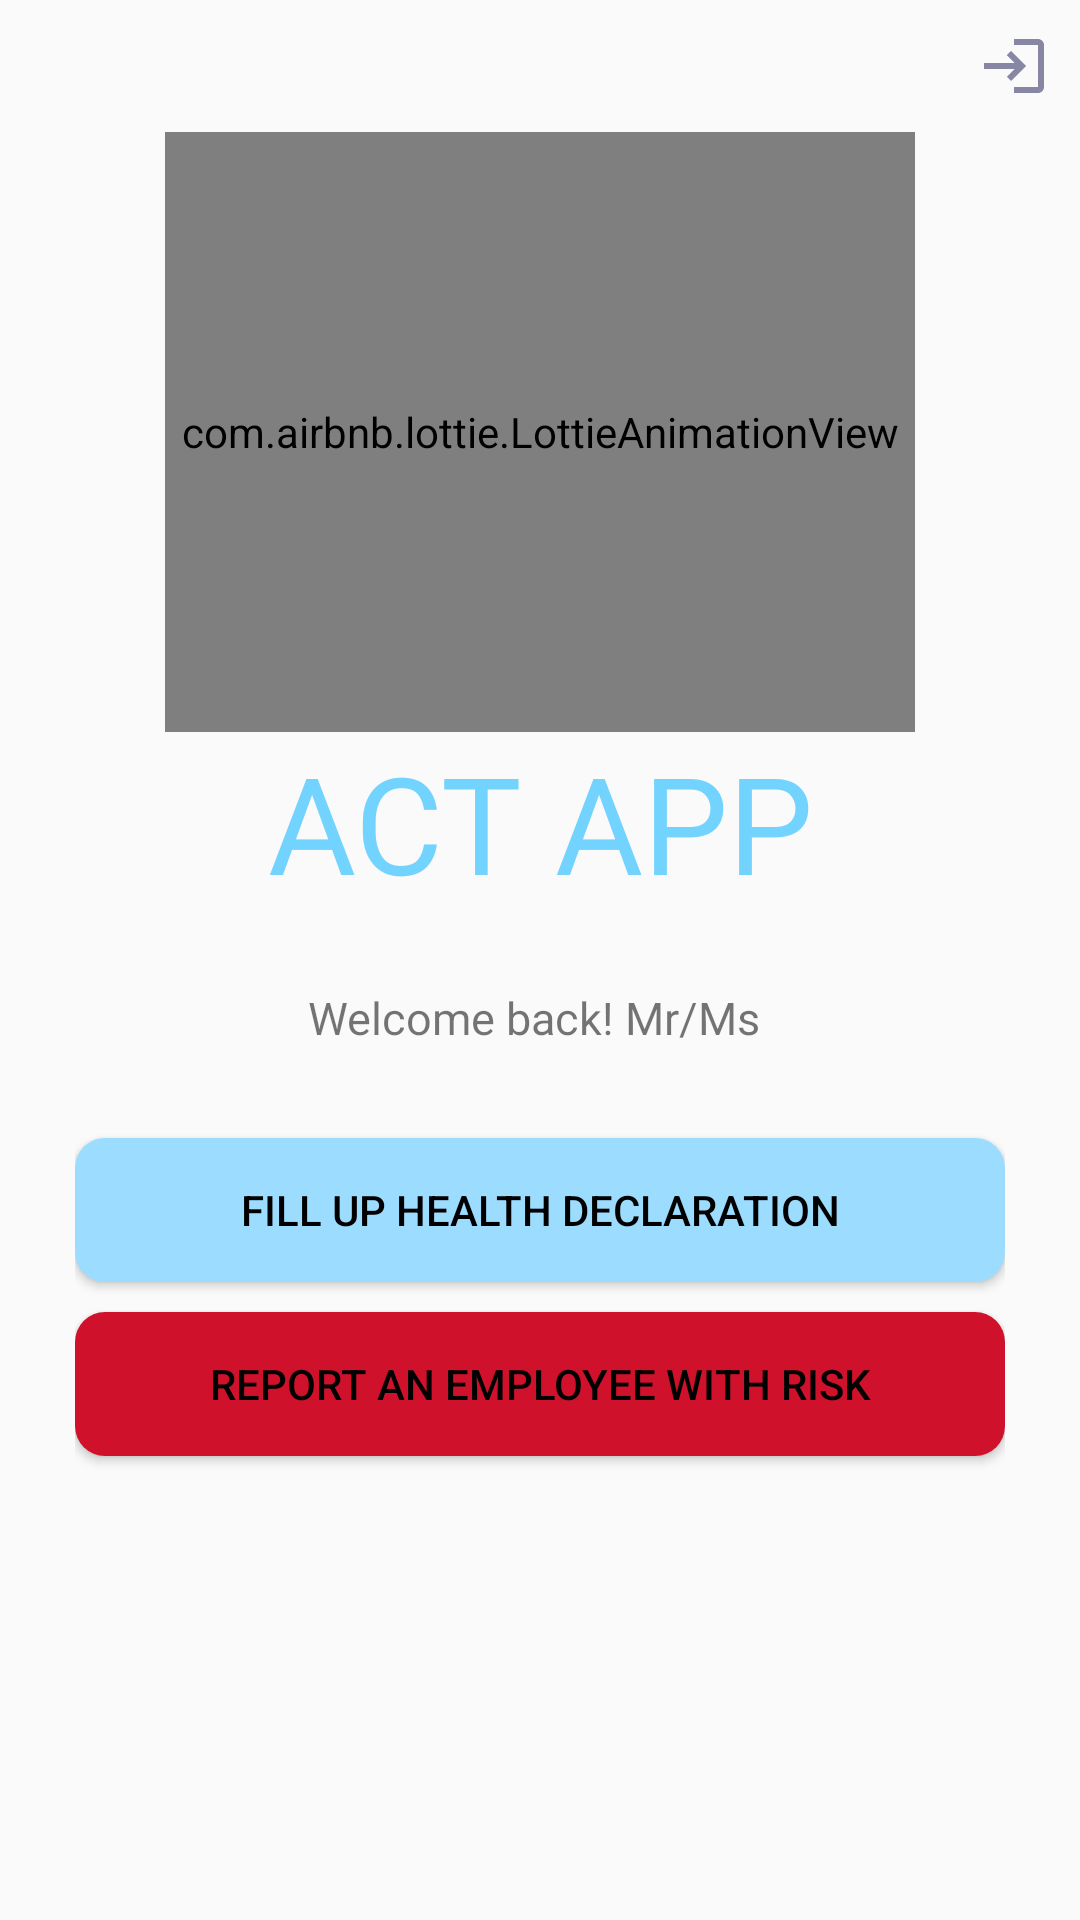

Point at icon controls on the screen. Image size 1080*1920, points as [x,y].
sigout: [1014,66]
